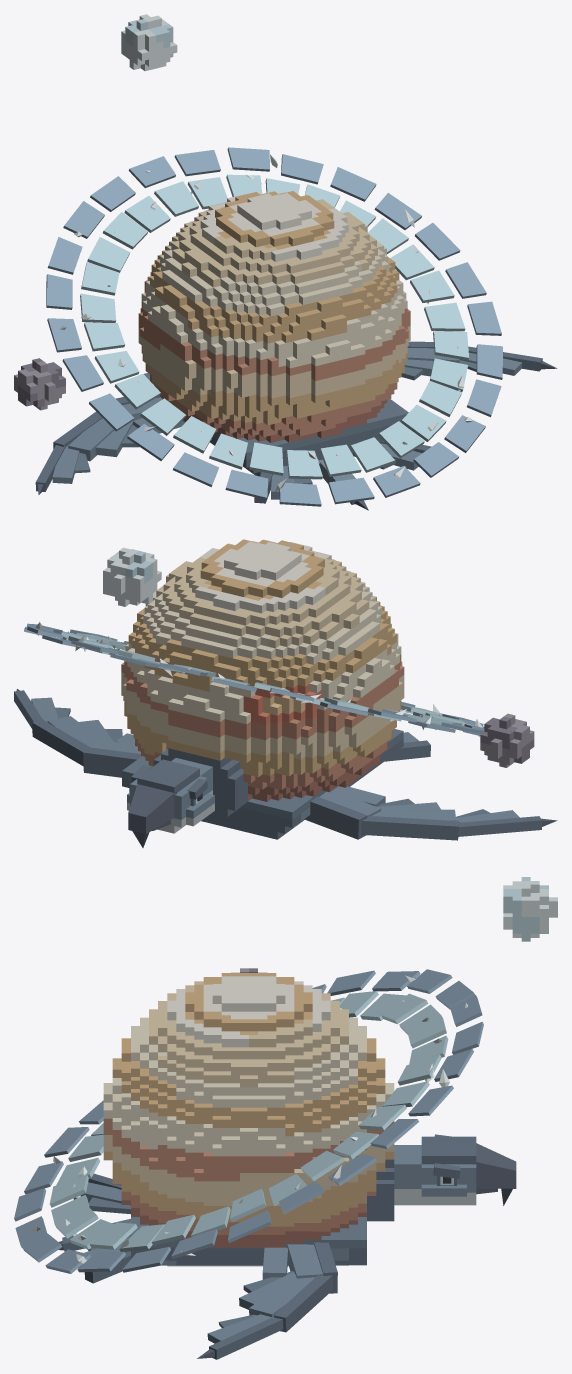
The model's file is Ringbearer.glb.
3 renders of one model, top to bottom at view 1: azimuth 30°, elevation 25°; view 2: azimuth 150°, elevation 25°; view 3: azimuth 270°, elevation 25°, orthographic. The views are drawn at different scales.
Visible parts, largest first — view 1: Shell, Ring_Glow, Ring, MoonA, WingL2, MoonB, WingL3, WingR2, WingR3, FlipBL; view 2: Shell, Head, WingL2, Ring, Ring_Glow, MoonA, WingL1, WingR2, MoonB, WingL3, WingR1, WingR3 (+1 smaller); view 3: Shell, Ring_Glow, Ring, Head, WingR2, MoonA, WingR1, WingR3, FlipBL, FlipBR.
Part boxes in pixels (left/top/right/bottom): Shell: left=138, top=191, right=410, bottom=476; Ring_Glow: left=60, top=154, right=496, bottom=491; Ring: left=46, top=147, right=502, bottom=506; MoonA: left=121, top=14, right=177, bottom=71; WingL2: left=53, top=411, right=139, bottom=461; MoonB: left=14, top=358, right=65, bottom=410; WingL3: left=35, top=445, right=90, bottom=494; WingR2: left=401, top=341, right=459, bottom=380; WingR3: left=459, top=346, right=557, bottom=375; FlipBL: left=254, top=465, right=312, bottom=503; Shell: left=121, top=539, right=404, bottom=839; Head: left=127, top=758, right=214, bottom=847; WingL2: left=361, top=798, right=459, bottom=840; Ring: left=24, top=623, right=484, bottom=735; Ring_Glow: left=35, top=622, right=482, bottom=737; MoonA: left=103, top=547, right=161, bottom=606; WingL1: left=304, top=786, right=385, bottom=839; WingR2: left=32, top=716, right=122, bottom=766; MoonB: left=480, top=713, right=534, bottom=767; WingL3: left=456, top=809, right=557, bottom=836; WingR1: left=83, top=733, right=141, bottom=777; WingR3: left=14, top=689, right=70, bottom=728; Shell: left=103, top=973, right=394, bottom=1266; Ring_Glow: left=31, top=975, right=467, bottom=1263; Ring: left=14, top=969, right=483, bottom=1273; Head: left=394, top=1134, right=516, bottom=1205; WingR2: left=239, top=1271, right=332, bottom=1332; MoonA: left=503, top=877, right=557, bottom=941; WingR1: left=262, top=1242, right=337, bottom=1293; WingR3: left=197, top=1314, right=283, bottom=1359; FlipBL: left=73, top=1173, right=130, bottom=1214; FlipBR: left=79, top=1236, right=130, bottom=1283.
Bounding box in the file's own units: 43.82 × 26.72 × 35.92.
